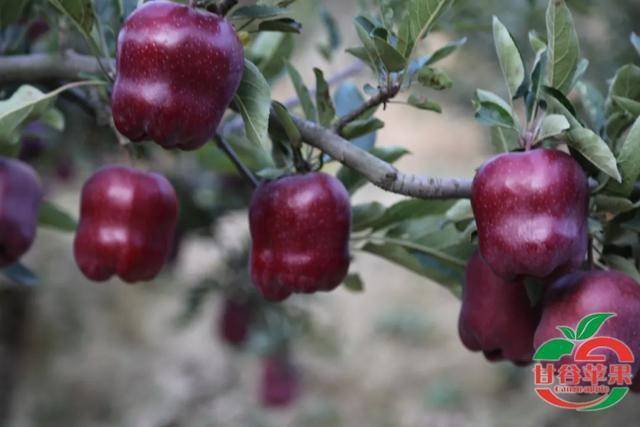apple: (107, 1, 243, 149), (468, 147, 587, 287), (245, 170, 353, 300), (69, 168, 181, 287), (533, 272, 640, 392), (459, 248, 535, 368)
